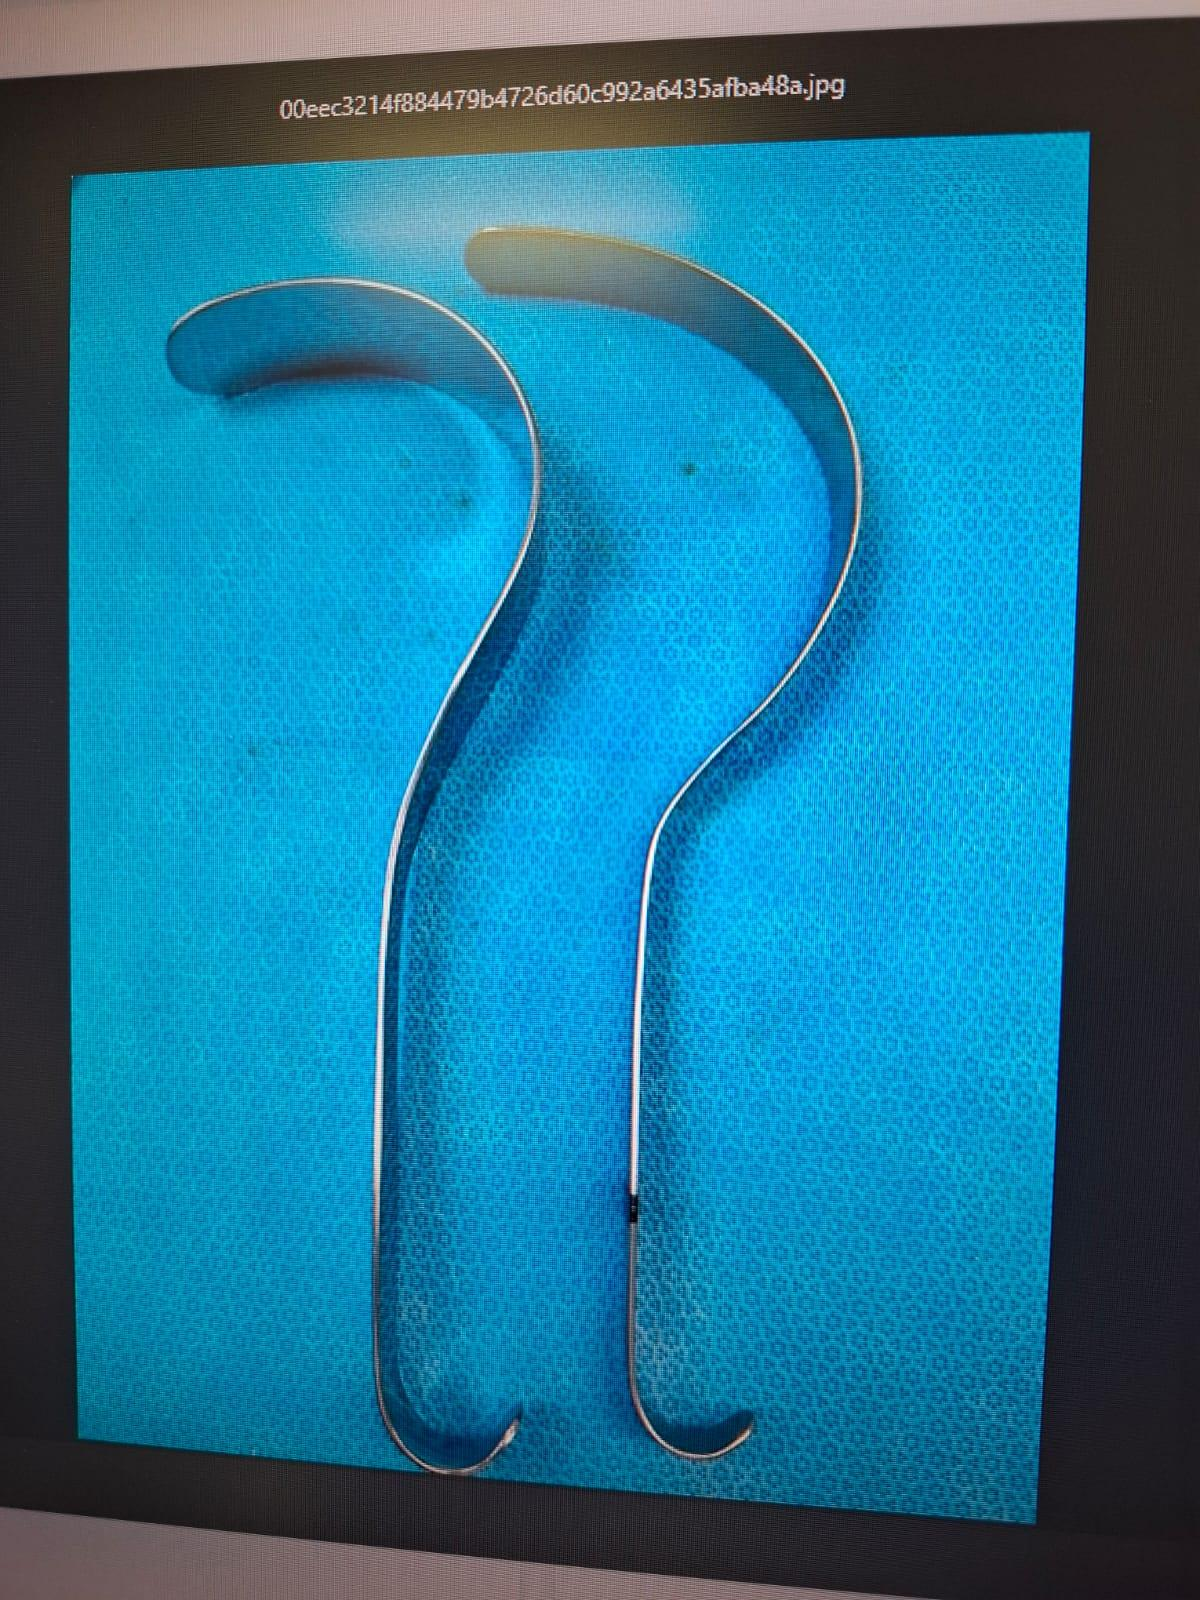Deaver Retractor: (453, 213, 885, 1468), (150, 262, 580, 1485)
